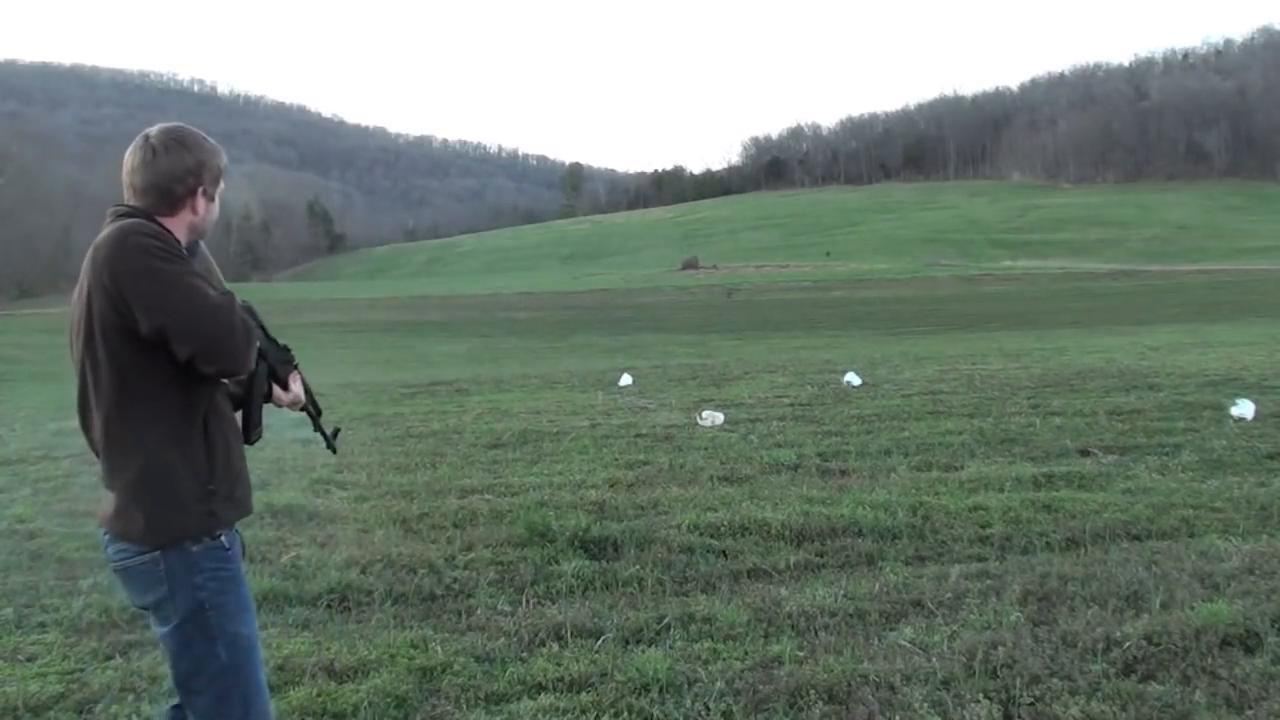AK47 Rifle: (179, 237, 343, 462)
